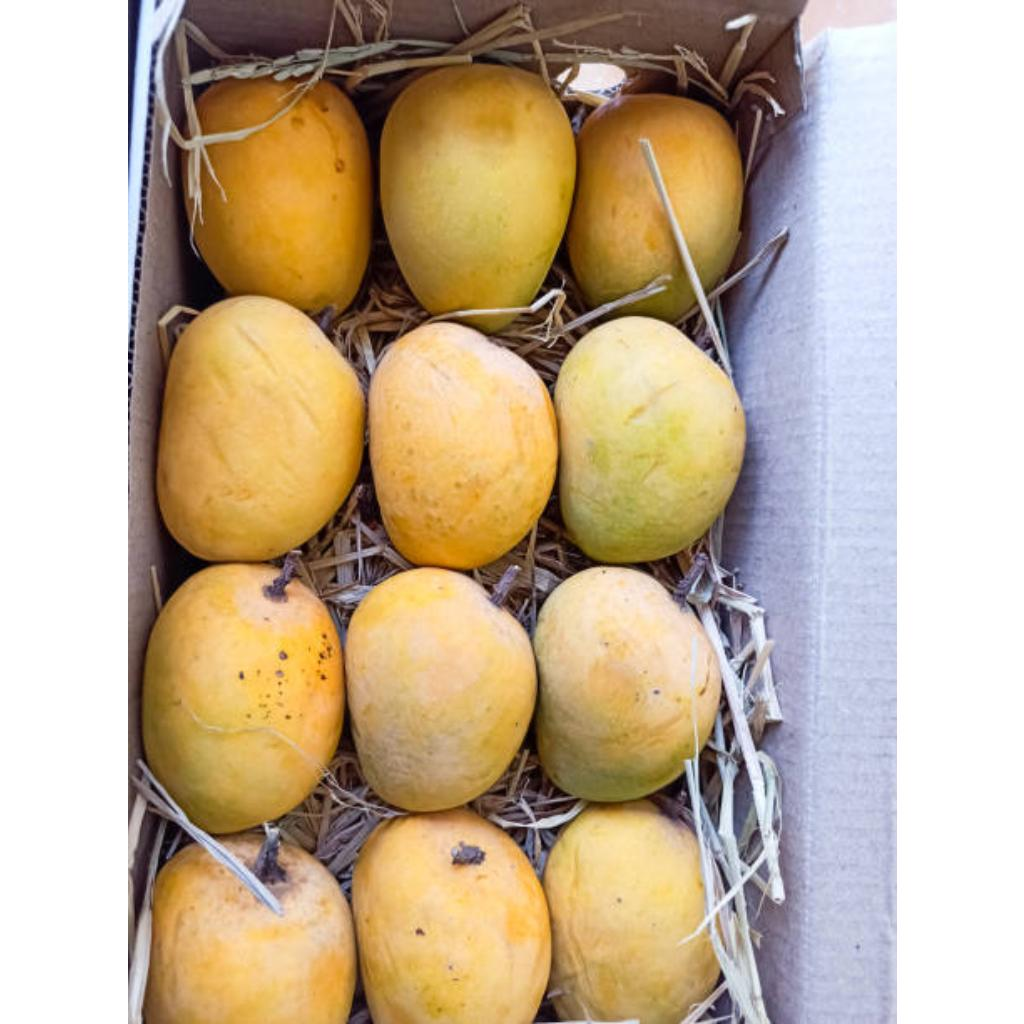mango: (155, 296, 365, 562), (155, 296, 365, 562), (145, 564, 343, 834), (379, 64, 575, 314), (553, 316, 745, 562), (345, 568, 537, 811), (369, 322, 557, 569), (535, 566, 721, 802), (351, 808, 551, 1023), (192, 77, 371, 311), (543, 800, 719, 1023), (567, 94, 739, 321), (144, 842, 355, 1024)
